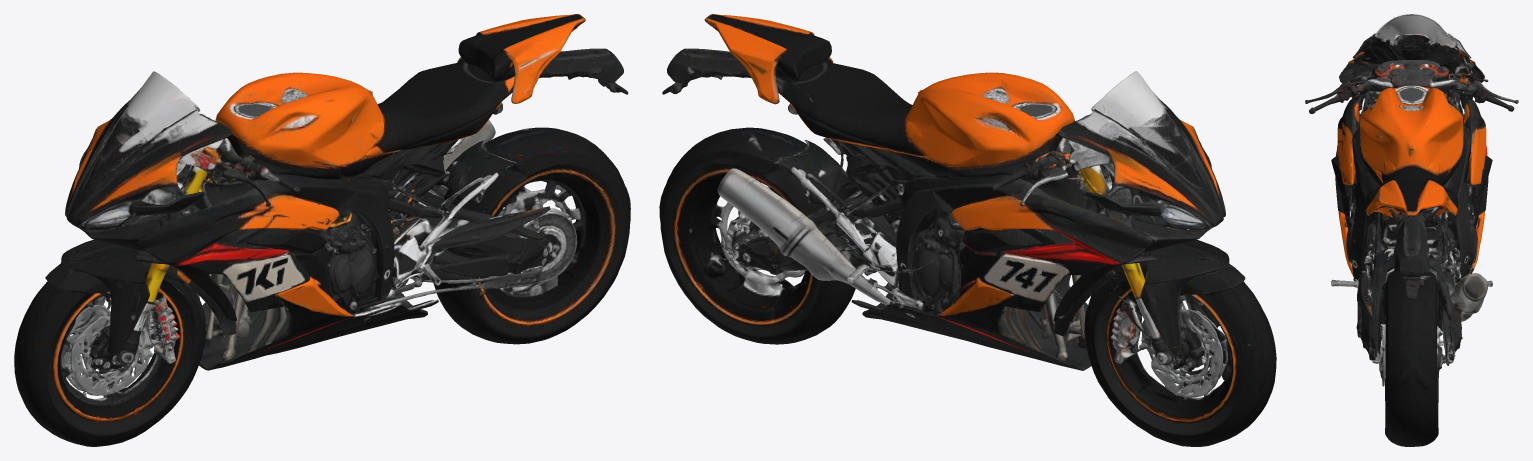
File: Meshy_AI_P_T_A_R_Track_Superbike_Model_Reference_20261118_te_181650tris.glb
3 renders of one model, left to right at view 1: azimuth 30°, elevation 25°; view 2: azimuth 150°, elevation 25°; view 3: azimuth 270°, elevation 25°, orthographic. The views are drawn at different scales.
Parts seen in each view (by area): view 1: Mesh_0; view 2: Mesh_0; view 3: Mesh_0.
Part boxes in pixels (box(x1,y1,x2,y2)): Mesh_0: box(14, 14, 630, 446); Mesh_0: box(659, 14, 1276, 446); Mesh_0: box(1305, 14, 1518, 446).
Size of the model in its own units: 190 by 105 by 71.79.
Materials: 1 (1 with a texture image).
